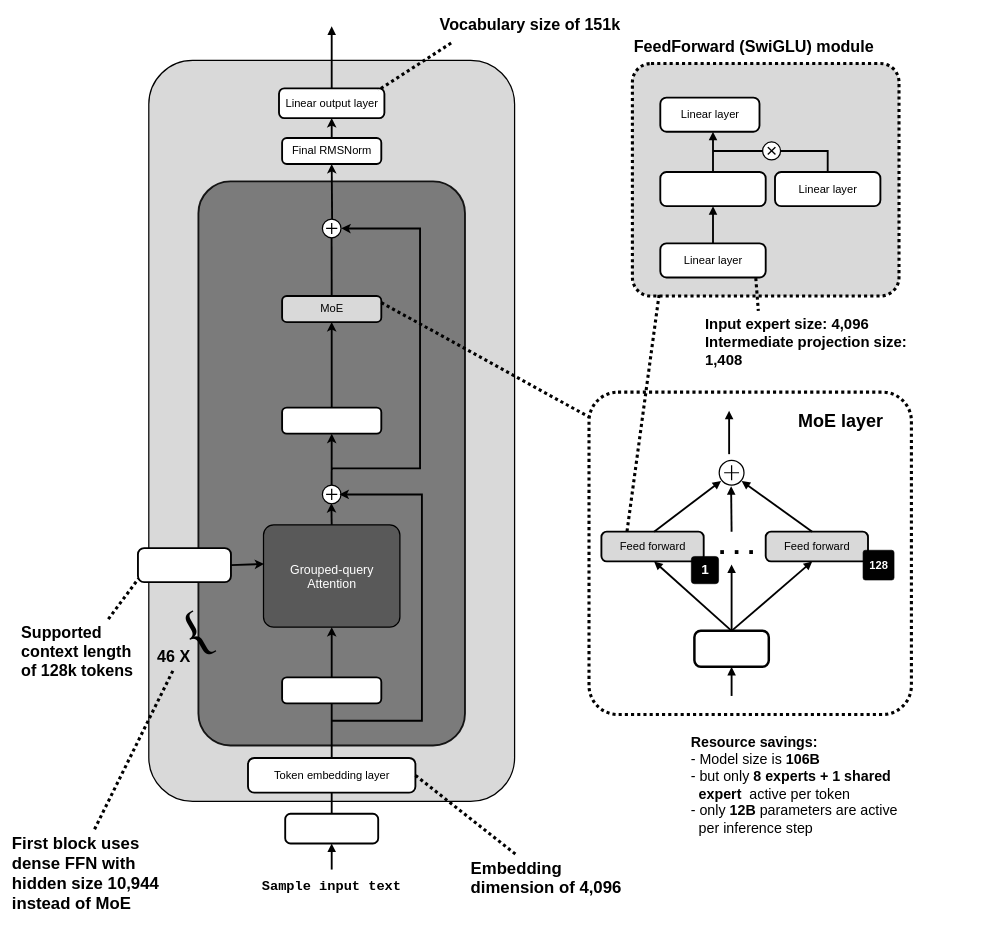
Image size: 984x932. Some labels were removed from this diagram. Here are the shapes that lost their labels. From the top down, the centre of each, then its label:
At (712,189): "SiLU activation".
At (331,420): "RMSNorm 2".
At (184,565): "RoPE".
At (731,648): "Router".
At (331,690): "RMSNorm 1".
At (331,828): "Tokenized text".
